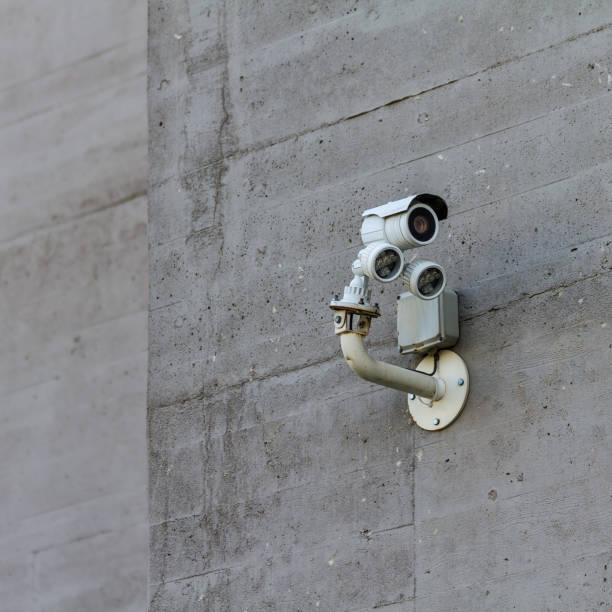camera: (345, 180, 467, 305)
